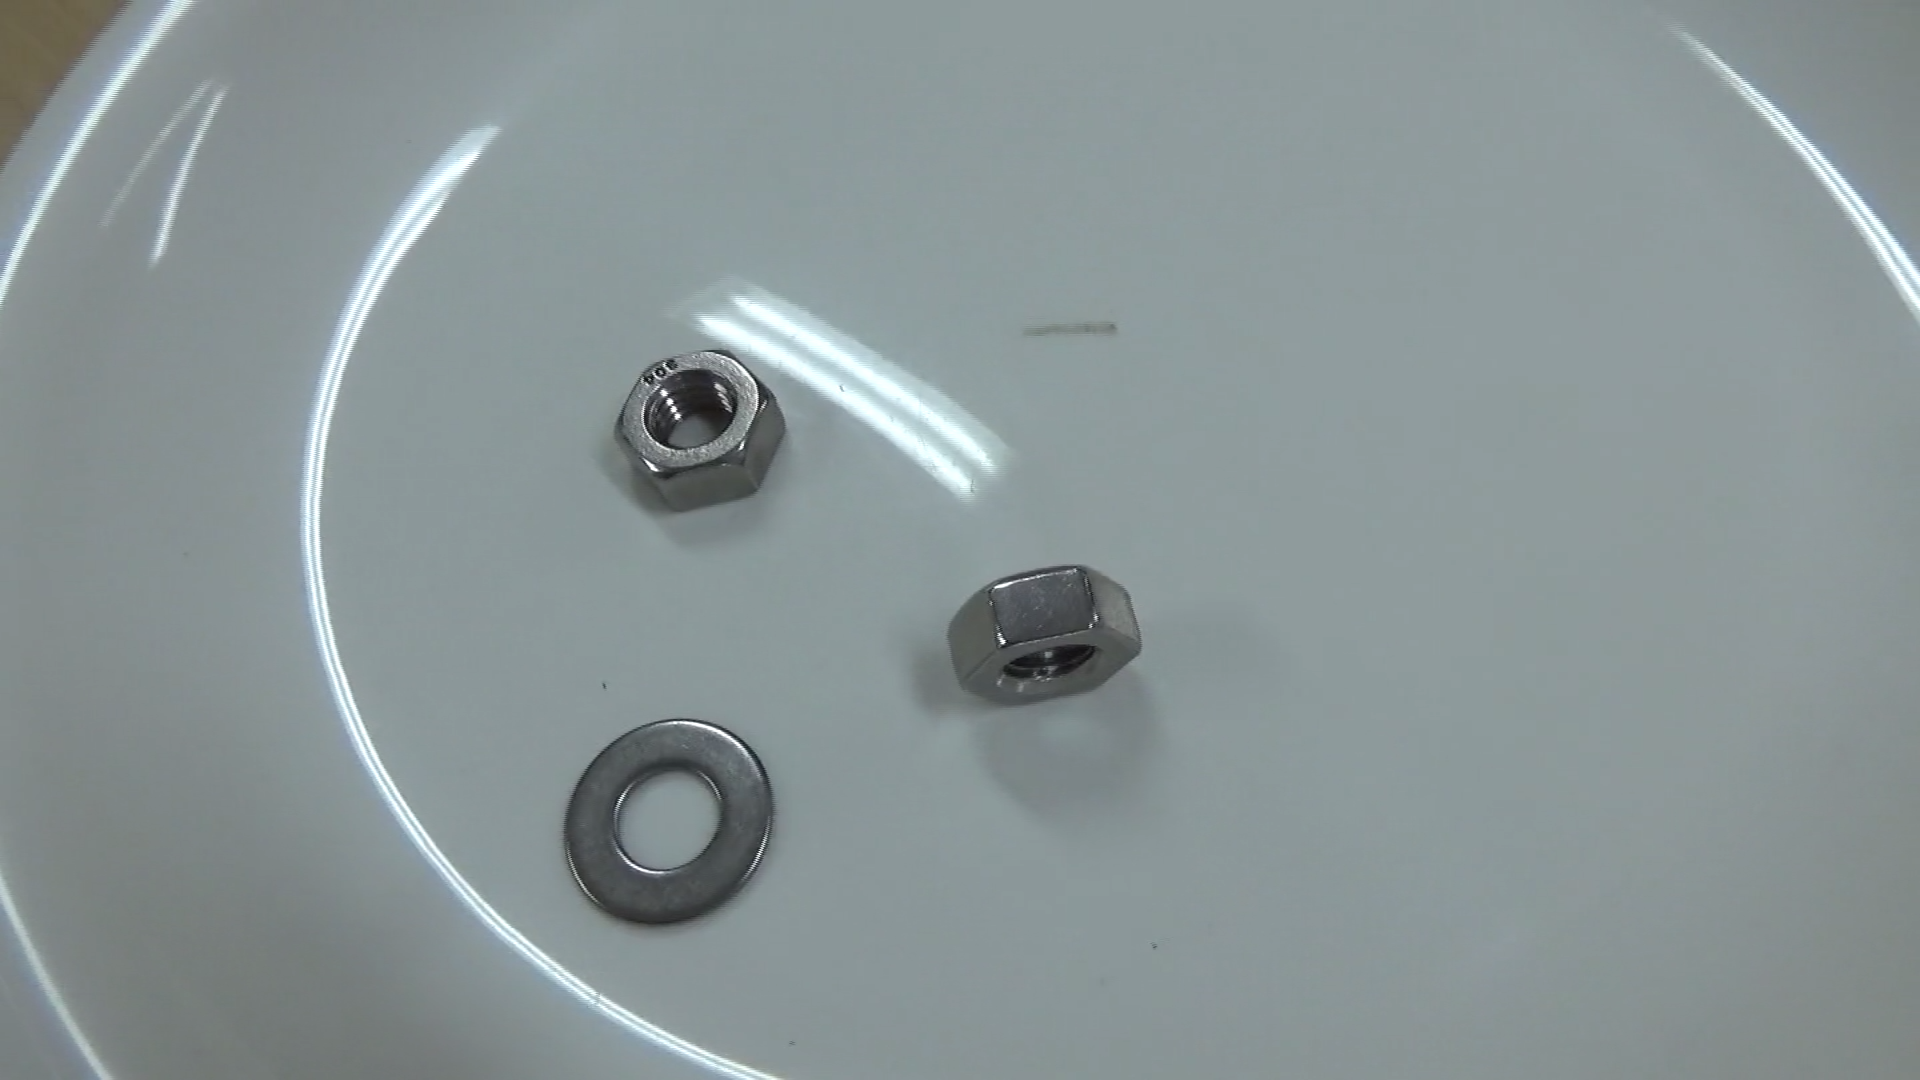nut: (597, 327, 793, 524), (938, 558, 1155, 712)
washer: (546, 699, 778, 949)
